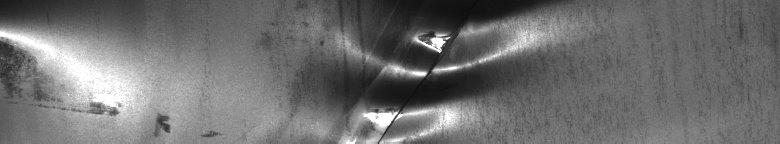ke: (321, 8, 525, 136)
